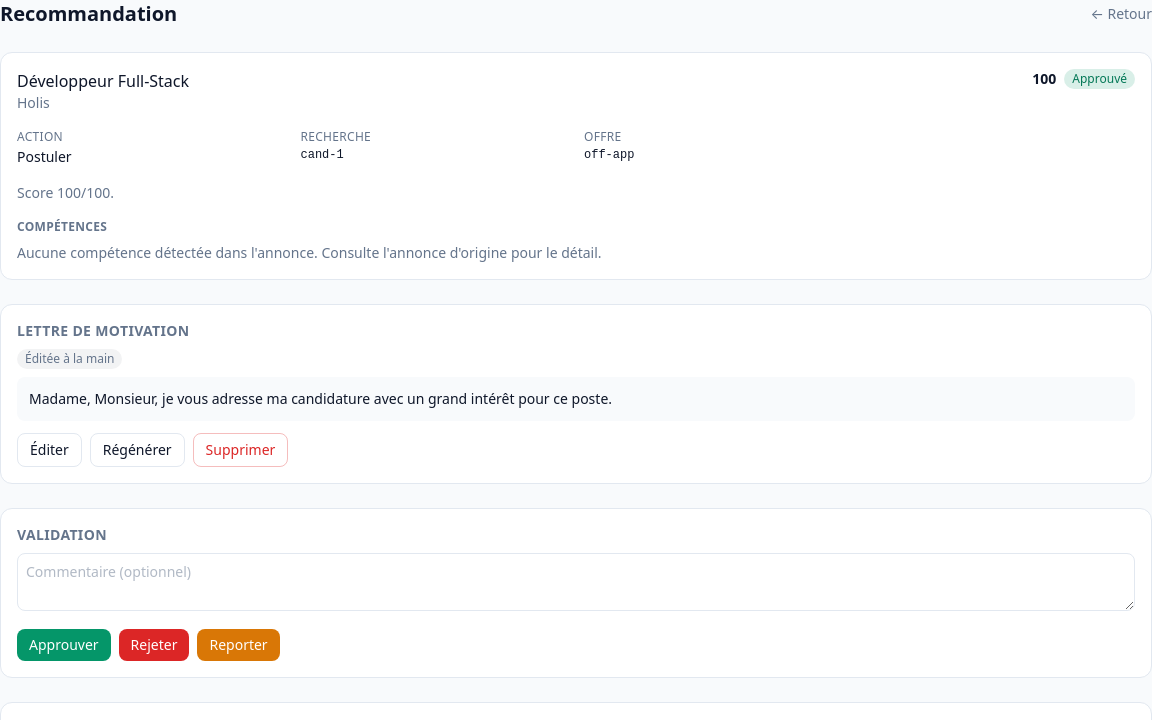
Test: LetterPanel (OPP-147) › régénérer demande confirmation puis envoie { regenerate: true }
This screenshot has width=1152, height=720.
Expected: the text "Éditée à la main" is shown, [17,349,122,369]
What coordinates should you click on to do the following:
click the button "Régénérer"
I would click on:
 (137, 450)
Its box is [90,433,185,467].
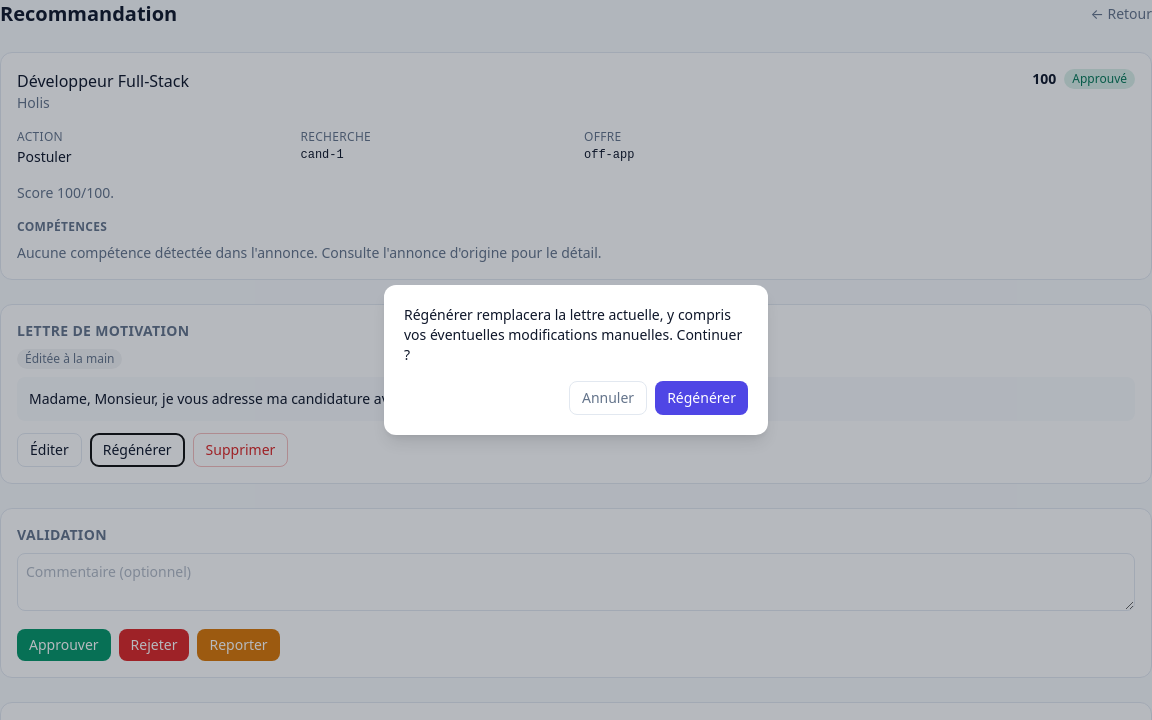
What coordinates should you click on to do the following:
click the button "Régénérer"
I would click on:
 (702, 398)
Its box is [655,381,748,415].
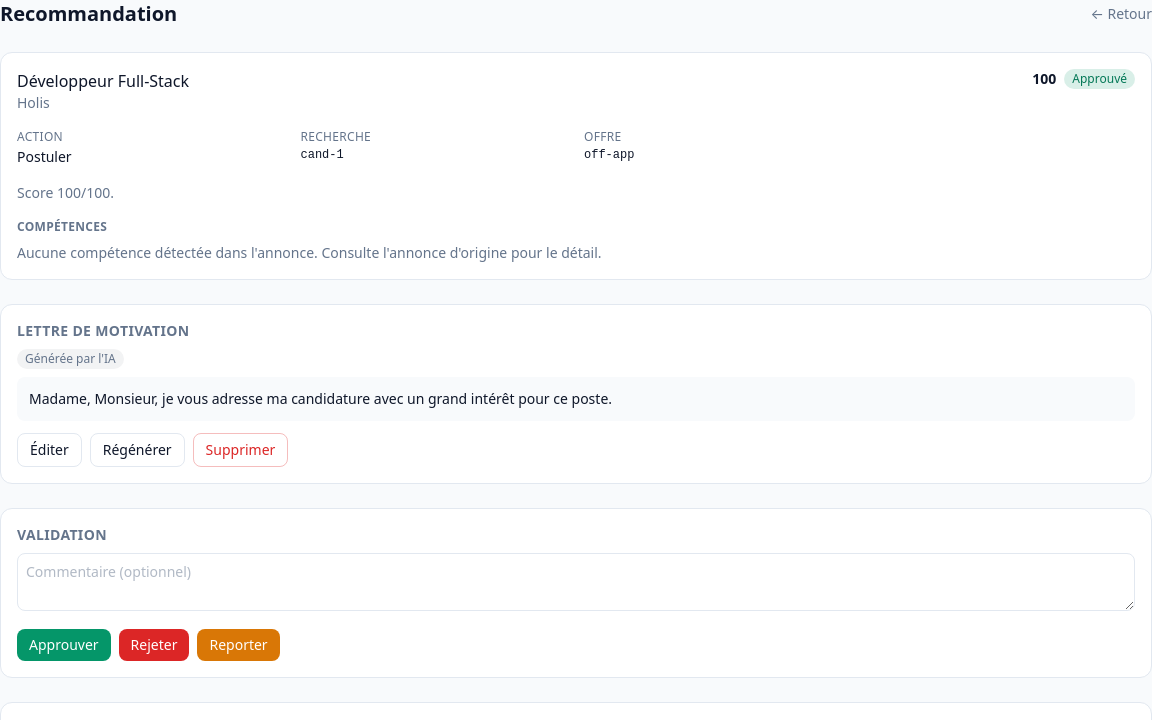
Expected: the text "Générée par l'IA" is shown, [17,349,124,369]
